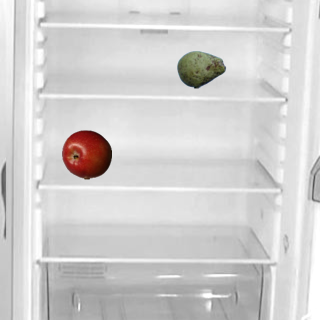Apple Braeburn: (61, 129, 111, 179)
Pear Stone: (176, 44, 226, 94)
